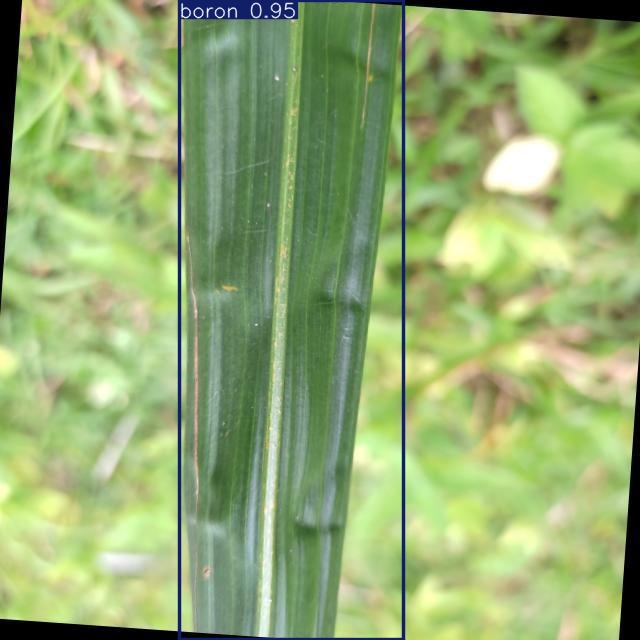nitrogen: (179, 0, 404, 639)
